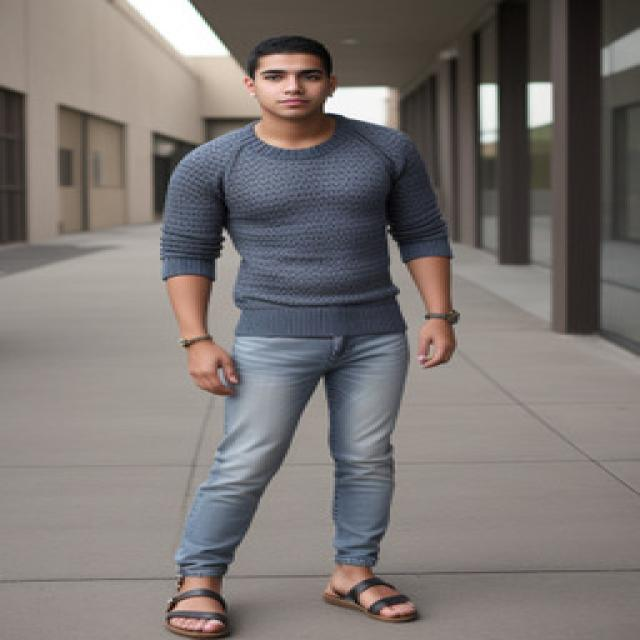Ai human 2: (161, 30, 483, 640)
